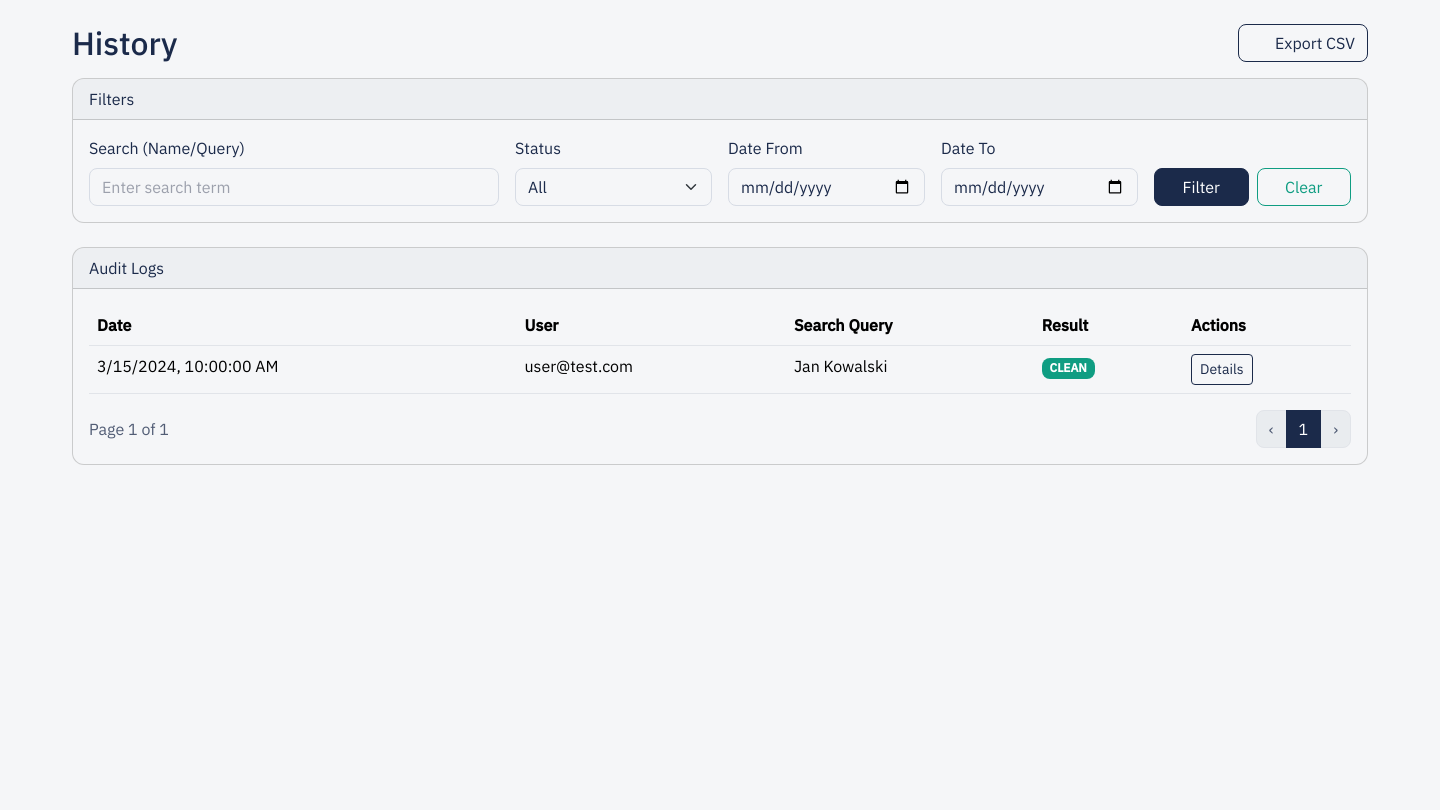
Test: HistoryPage › PDF confirmation download › shows an error alert in the modal if PDF generation fails
The width and height of the screenshot is (1440, 810).
Click the button with test id "history-details-btn".
click(1222, 370)  # box x1=1191 y1=354 x2=1253 y2=385
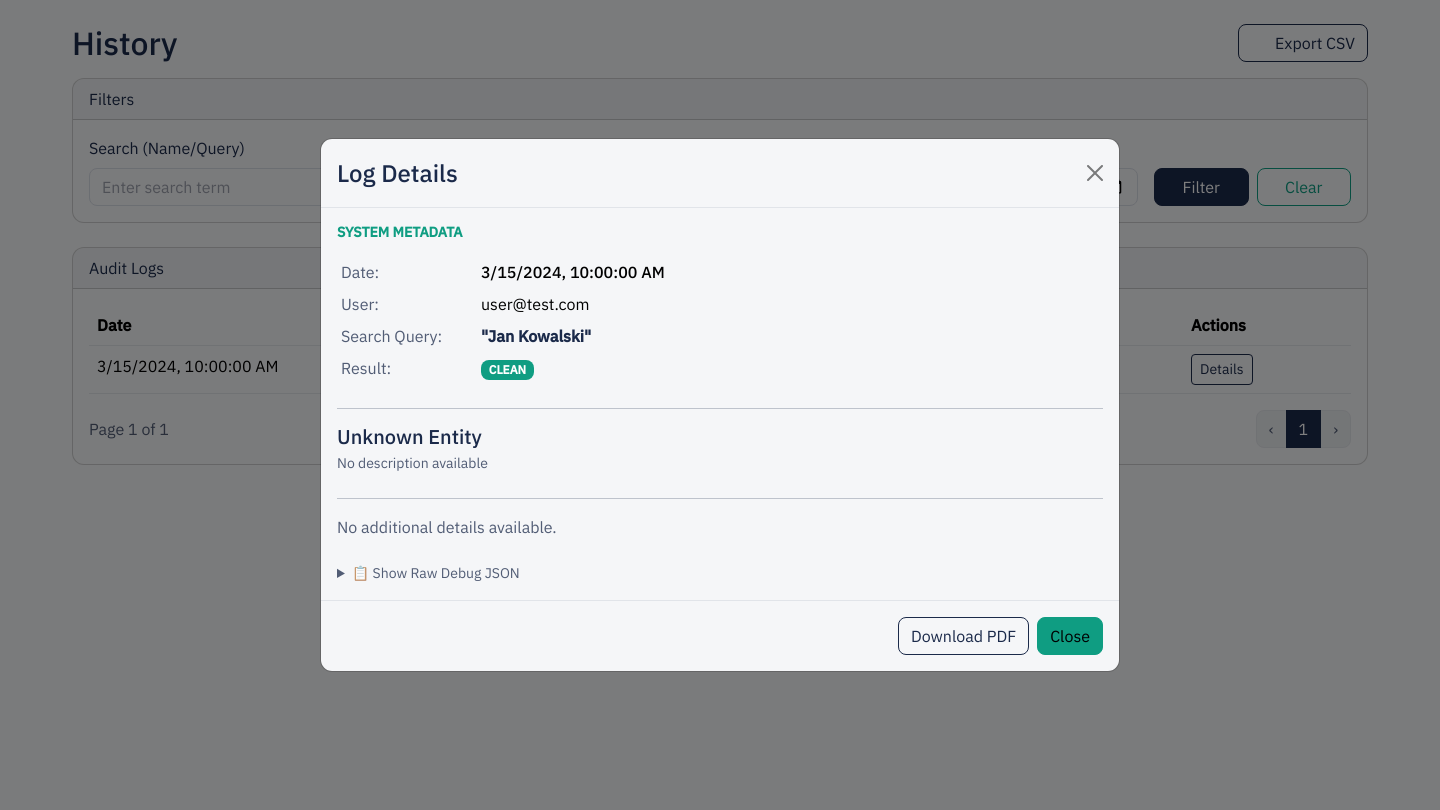
Expected: the dialog is shown, x1=320 y1=138 x2=1120 y2=672
Click the button with test id "download-pdf-btn".
click(964, 636)  # box x1=898 y1=618 x2=1029 y2=656
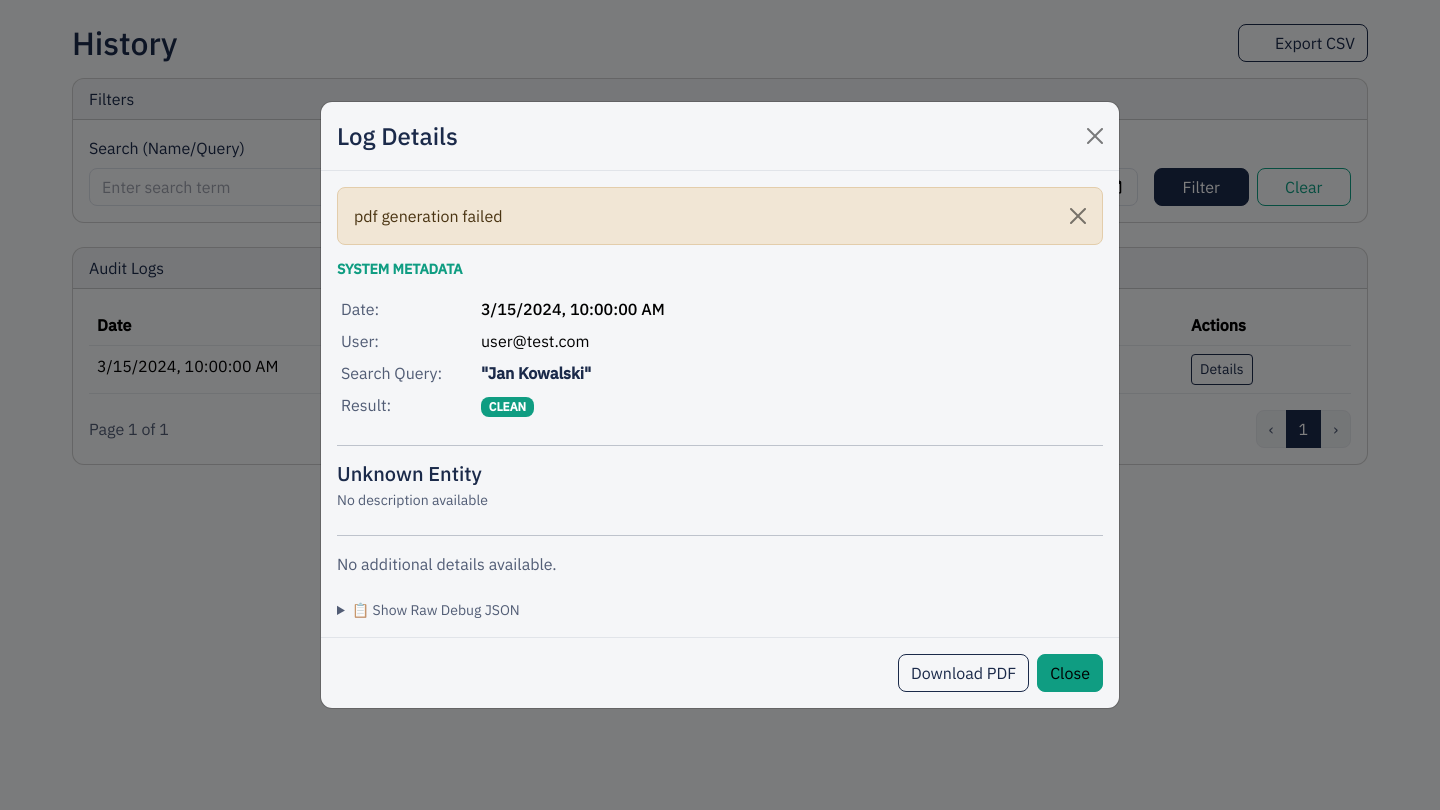
Expected: the text "pdf generation failed" is shown, x1=337 y1=186 x2=1103 y2=244
